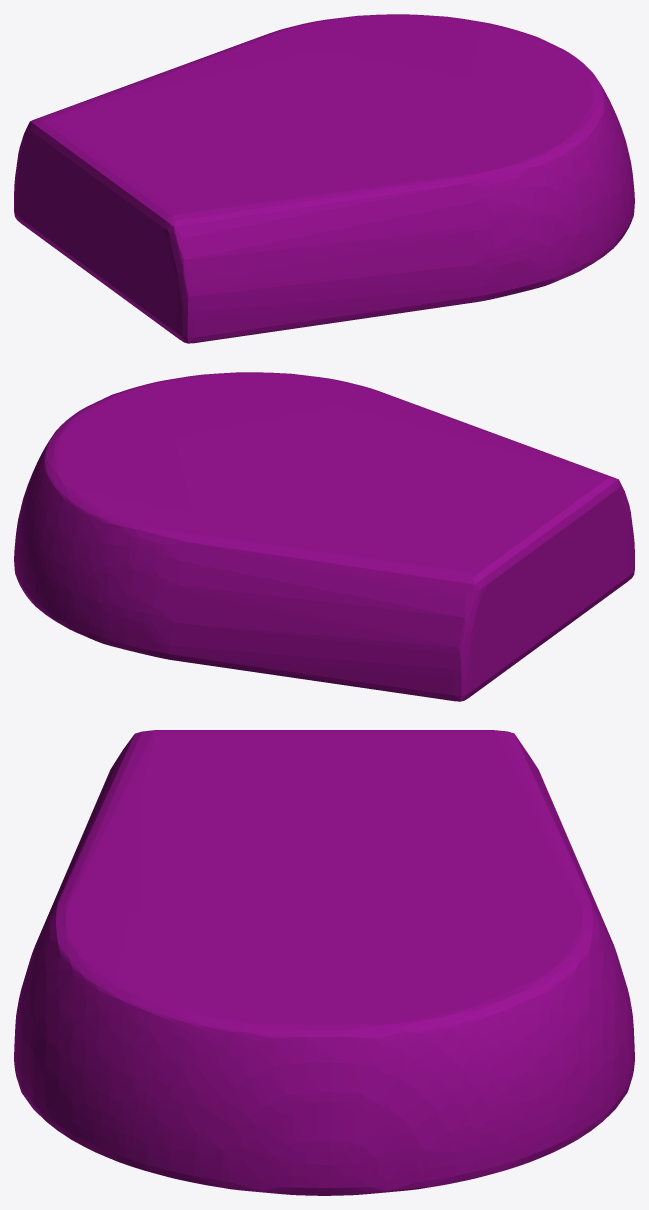
The model's file is right_elbow_link_part_14.obj.
3 views of the same model, one above another, from view 1: azimuth 30°, elevation 25°; view 2: azimuth 150°, elevation 25°; view 3: azimuth 270°, elevation 25° (orthographic). The views are drawn at different scales.
Size of the model in its own units: 0.0905 by 0.0196 by 0.0731.
